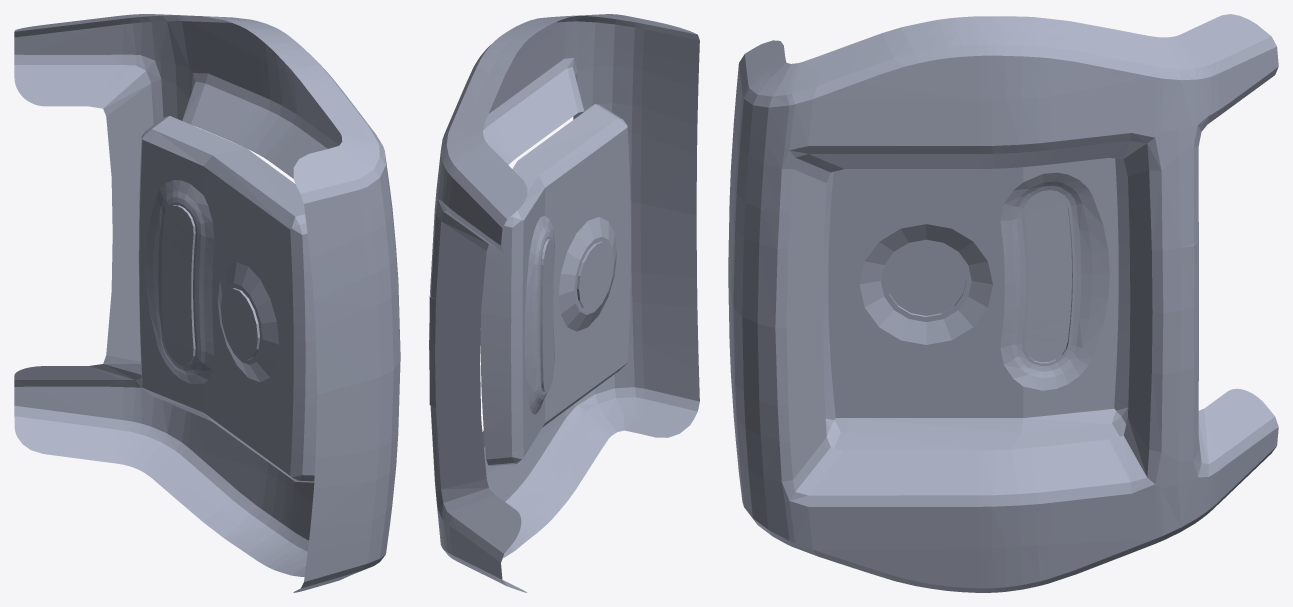
The model's file is face_shell.obj.
3 views of the same model, side by side, from view 1: azimuth 30°, elevation 25°; view 2: azimuth 150°, elevation 25°; view 3: azimuth 270°, elevation 25° (orthographic). The views are drawn at different scales.
Visible parts, largest first — view 1: _05227_001-mesh; view 2: _05227_001-mesh; view 3: _05227_001-mesh.
Boxes of the visible parts, box(x1,y1,x2,y2) form: _05227_001-mesh: box(14, 14, 400, 592); _05227_001-mesh: box(429, 14, 699, 592); _05227_001-mesh: box(728, 14, 1278, 592).
Size of the model in its own units: 0.0722 by 0.2198 by 0.1928.
